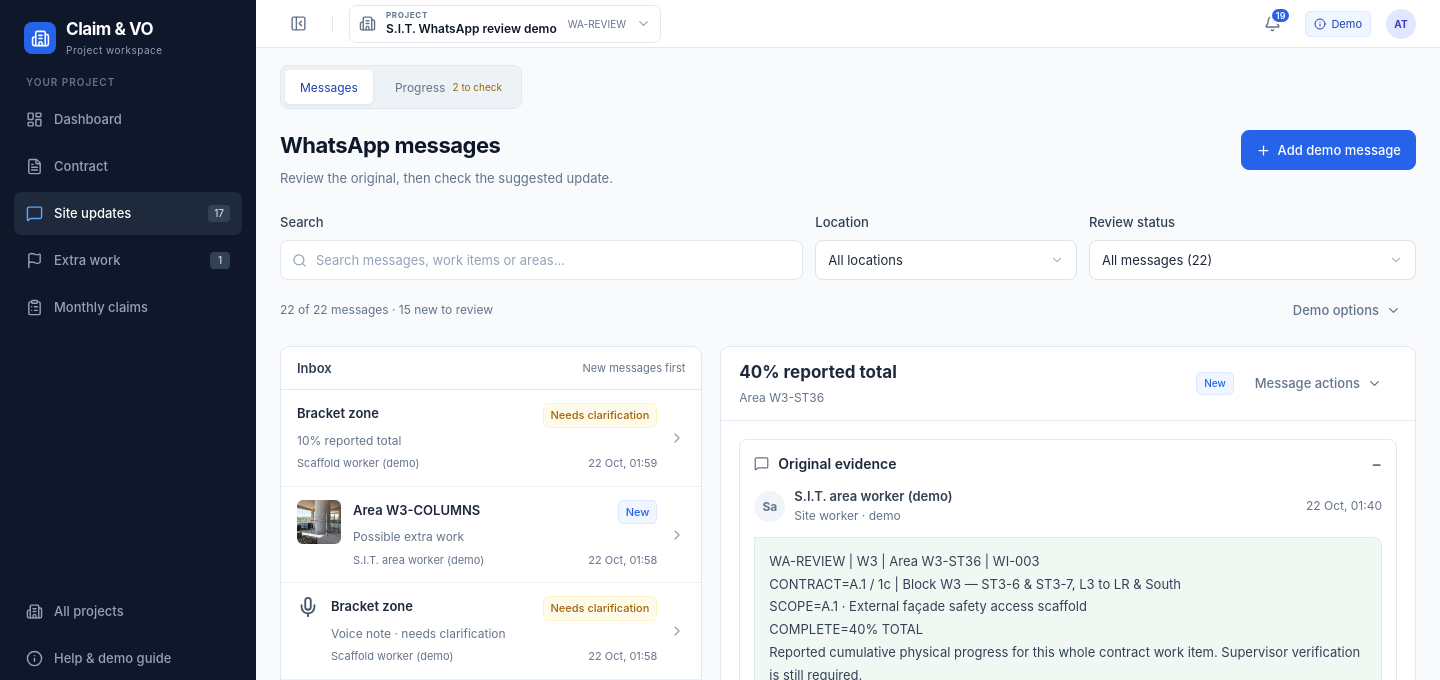
Test: WhatsApp review retains the exact message and separates saved updates from current totals › puts the original evidence before the match and decision, and filters location without rewriting the selected record
Expected: the button "Clear all" is not shown
Click the dropdown named "Filter message location": (866, 260) [815,240,1077,280]
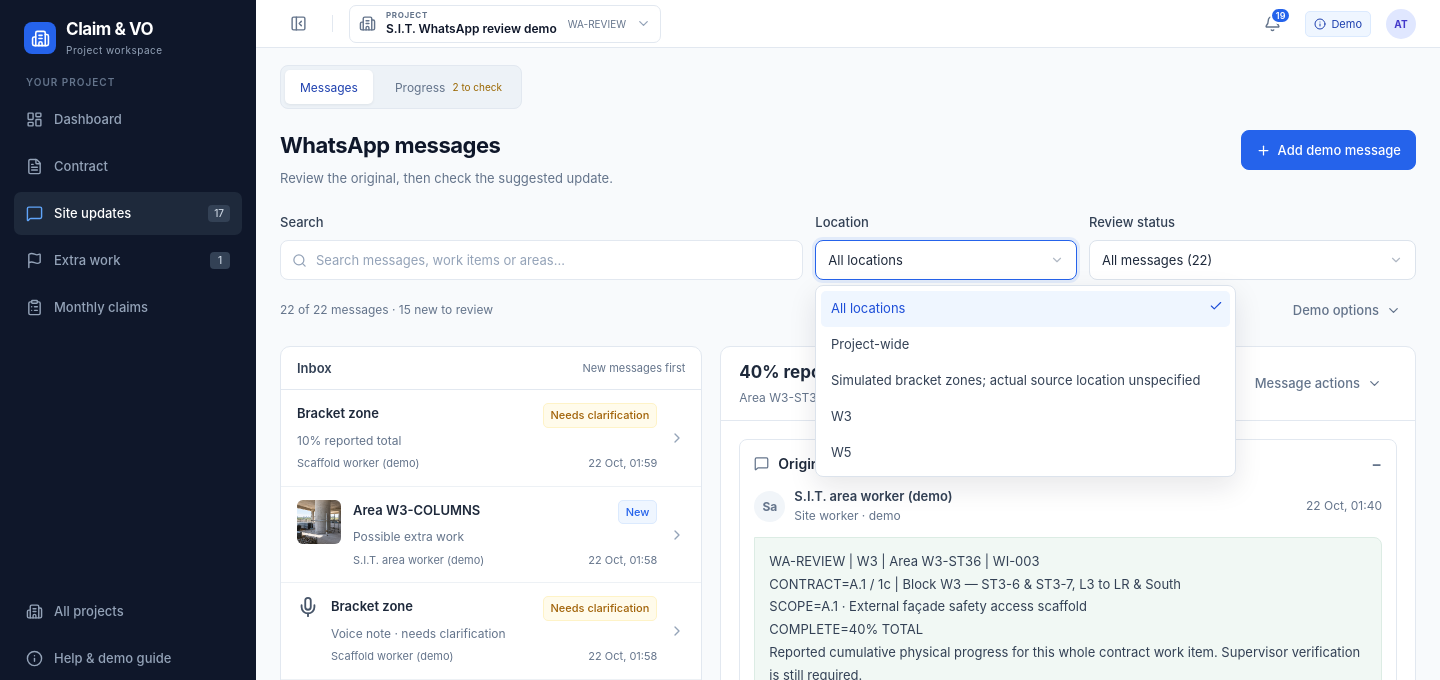
Click the option "W5": (841, 452) [831,444,852,460]
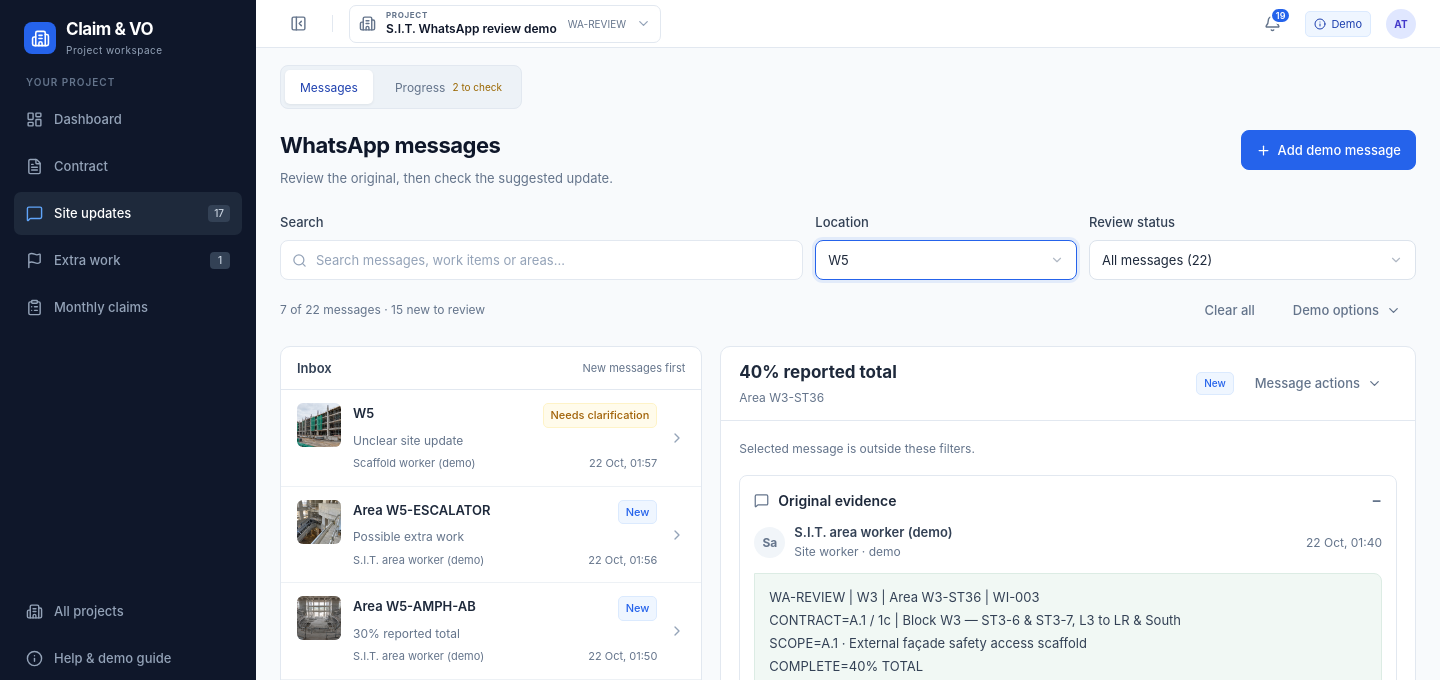
Expected: the element with class "wa-inbox" does not show "Area W3-ST36"
Result: the text "Selected message is outside these filters." is shown at [739,441,975,456]
Click the button "Clear all": (1230, 310) [1190,290,1270,330]
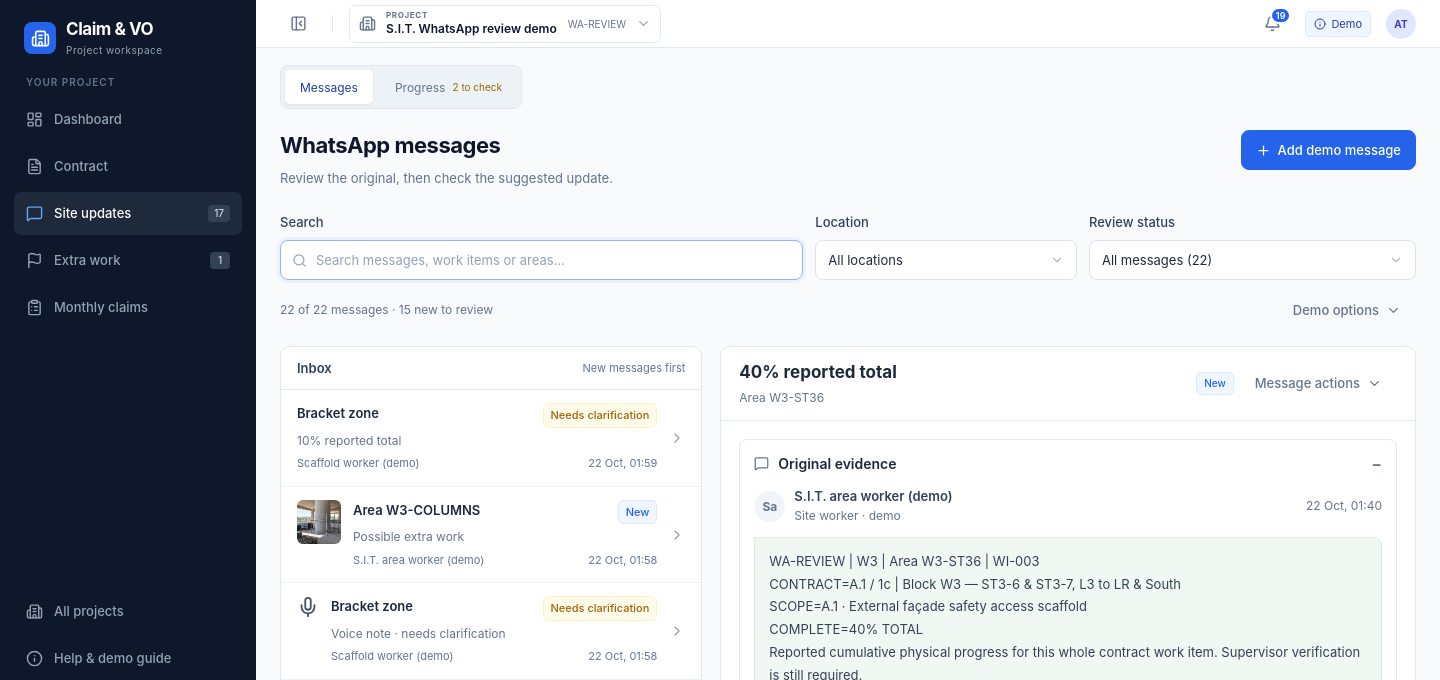
Result: the button "Clear all" is gone
